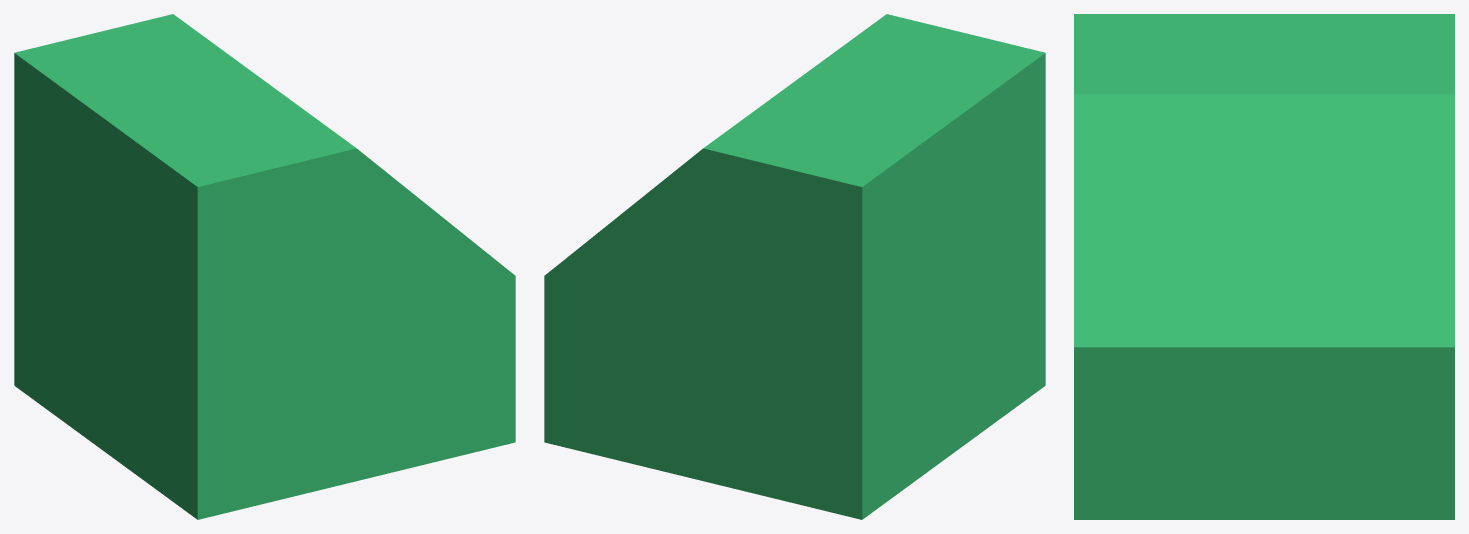
Rendered from r6c9_body_green.gltf.
The picture shows the model from 3 angles, left to right: view 1: azimuth 30°, elevation 25°; view 2: azimuth 150°, elevation 25°; view 3: azimuth 270°, elevation 25°; orthographic projection. The views are drawn at different scales.
Visible parts, largest first — view 1: r6c9_body_green; view 2: r6c9_body_green; view 3: r6c9_body_green.
Part boxes in pixels (x1,y1,x2,y2): r6c9_body_green: (14,14,515,519); r6c9_body_green: (544,14,1045,519); r6c9_body_green: (1074,14,1454,519).
Size of what is drawn, in the model's own units: 2 by 2 by 2.
1 material, 1 textured.
